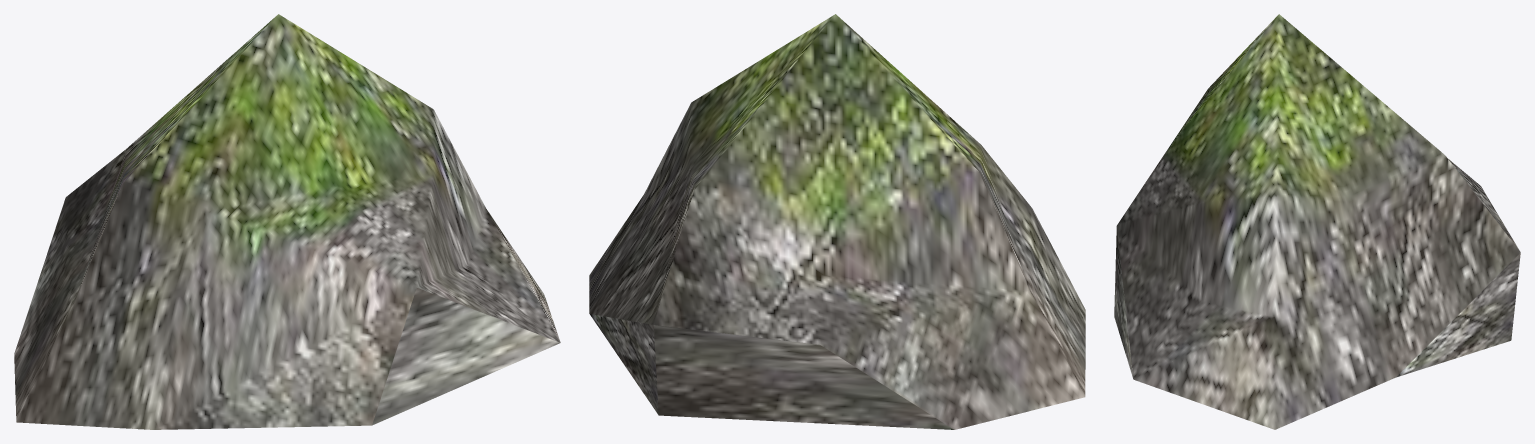
The model's file is rock-moss-1.glb.
The picture shows the model from 3 angles, left to right: view 1: azimuth 30°, elevation 25°; view 2: azimuth 150°, elevation 25°; view 3: azimuth 270°, elevation 25°; orthographic projection. The views are drawn at different scales.
Visible parts, largest first — view 1: rock-moss-1; view 2: rock-moss-1; view 3: rock-moss-1.
Part boxes in pixels (left/top/right/bottom): rock-moss-1: left=14, top=14, right=560, bottom=429; rock-moss-1: left=589, top=14, right=1085, bottom=429; rock-moss-1: left=1114, top=14, right=1520, bottom=429.
Bounding box in the file's own units: 3.23 × 2.01 × 2.45.
Materials: 1 (1 with a texture image).
